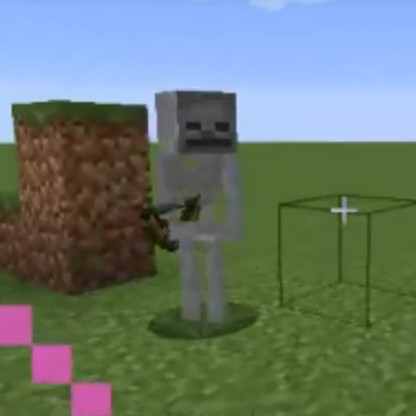skeleton: (150, 88, 248, 326)
